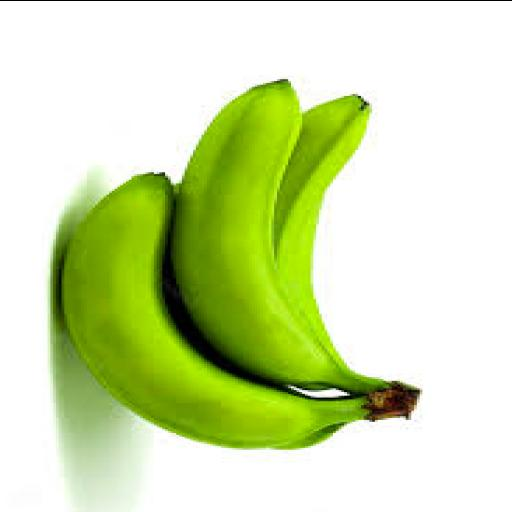banana: (61, 175, 376, 449), (170, 82, 387, 393), (274, 96, 368, 365), (274, 96, 368, 360)
